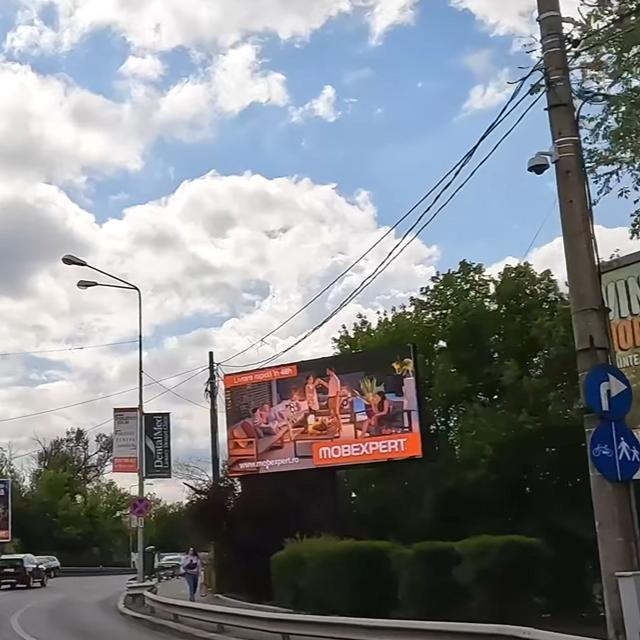forb_waiting: (130, 497, 151, 516)
